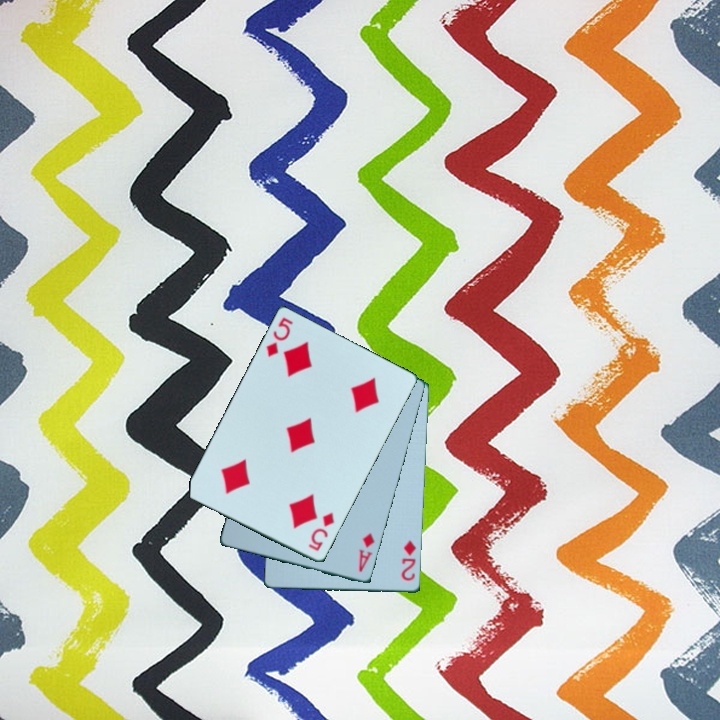2d: (398, 537, 419, 584)
5d: (263, 314, 296, 360), (305, 509, 338, 554)
Ad: (355, 529, 378, 575)
